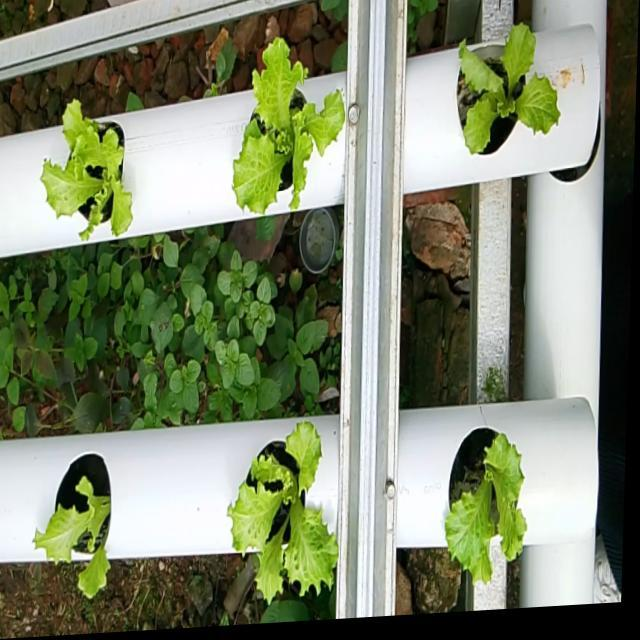Baby: (228, 425, 338, 610), (234, 42, 346, 219), (457, 28, 561, 161), (43, 101, 134, 243), (445, 432, 526, 588), (34, 453, 112, 598)
